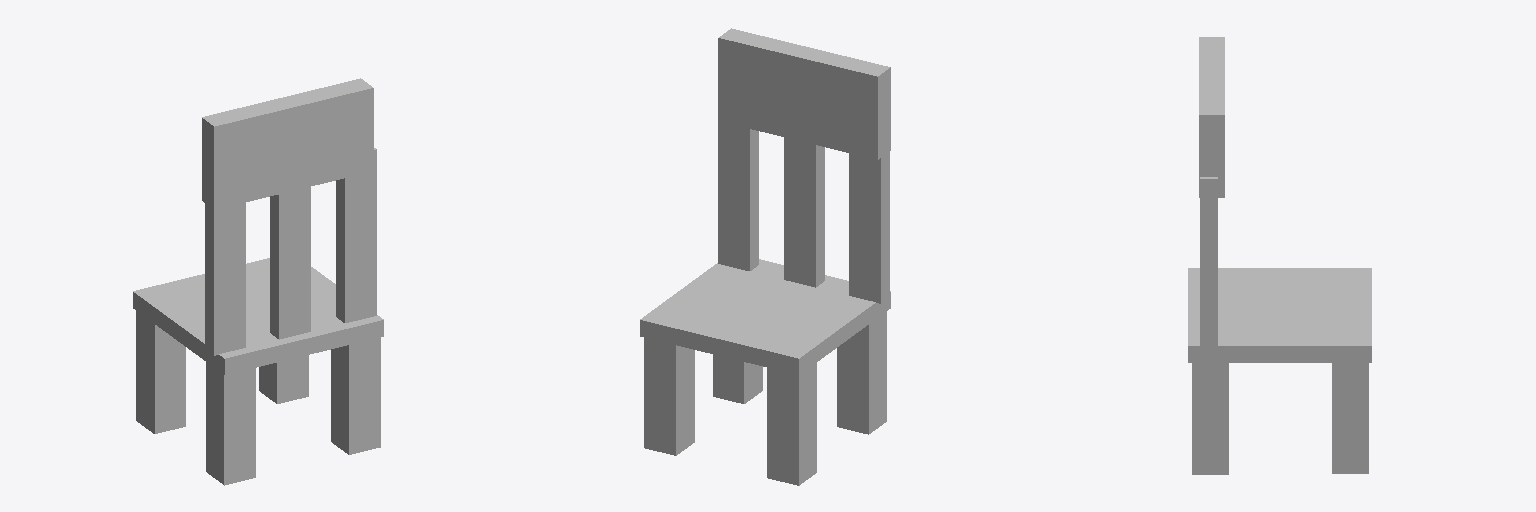
Rendered from chair.obj.
The picture shows the model from 3 angles: view 1: azimuth 30°, elevation 25°; view 2: azimuth 150°, elevation 25°; view 3: azimuth 270°, elevation 25°; orthographic projection.
Visible parts, largest first — view 1: Chair; view 2: Chair; view 3: Chair.
Part boxes in pixels (x1,y1,x2,y2): Chair: (133,78,383,485); Chair: (640,28,890,485); Chair: (1188,37,1371,474).
Size of the model in its own units: 2.06 by 4.29 by 2.